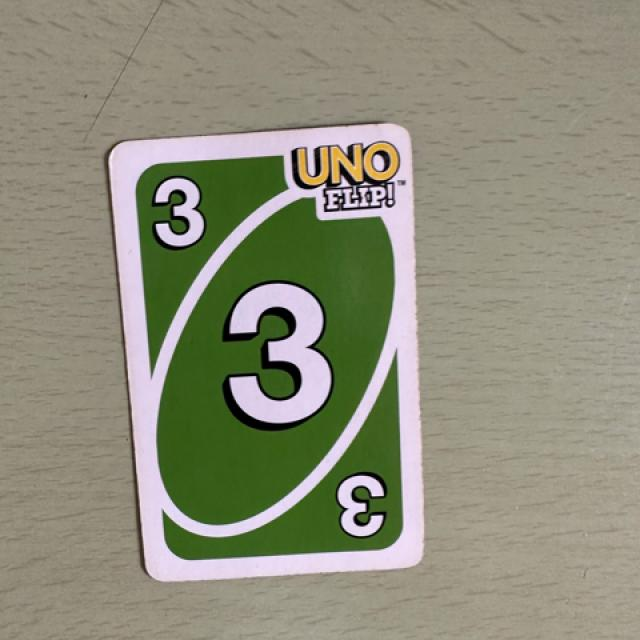lgreen-3: (121, 156, 235, 268)
